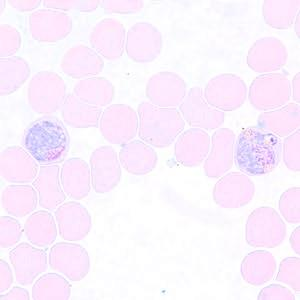Infected: (232, 125, 285, 177), (20, 115, 70, 166)
Uninfected: (180, 86, 227, 131), (7, 242, 49, 286), (246, 205, 287, 249), (45, 242, 90, 282), (27, 69, 66, 115), (204, 73, 249, 112), (249, 72, 292, 112), (145, 70, 187, 109), (174, 126, 213, 168), (89, 18, 127, 61), (246, 35, 289, 73), (28, 8, 74, 43), (99, 104, 139, 144), (52, 202, 92, 241), (258, 101, 300, 138), (128, 20, 164, 63), (212, 172, 255, 208), (89, 147, 122, 193), (60, 46, 104, 79), (118, 138, 157, 175), (2, 145, 39, 184), (239, 248, 278, 285), (59, 157, 91, 201), (22, 210, 58, 247), (0, 182, 39, 216), (0, 55, 32, 96), (72, 76, 115, 106), (263, 0, 300, 30), (0, 22, 23, 57)
